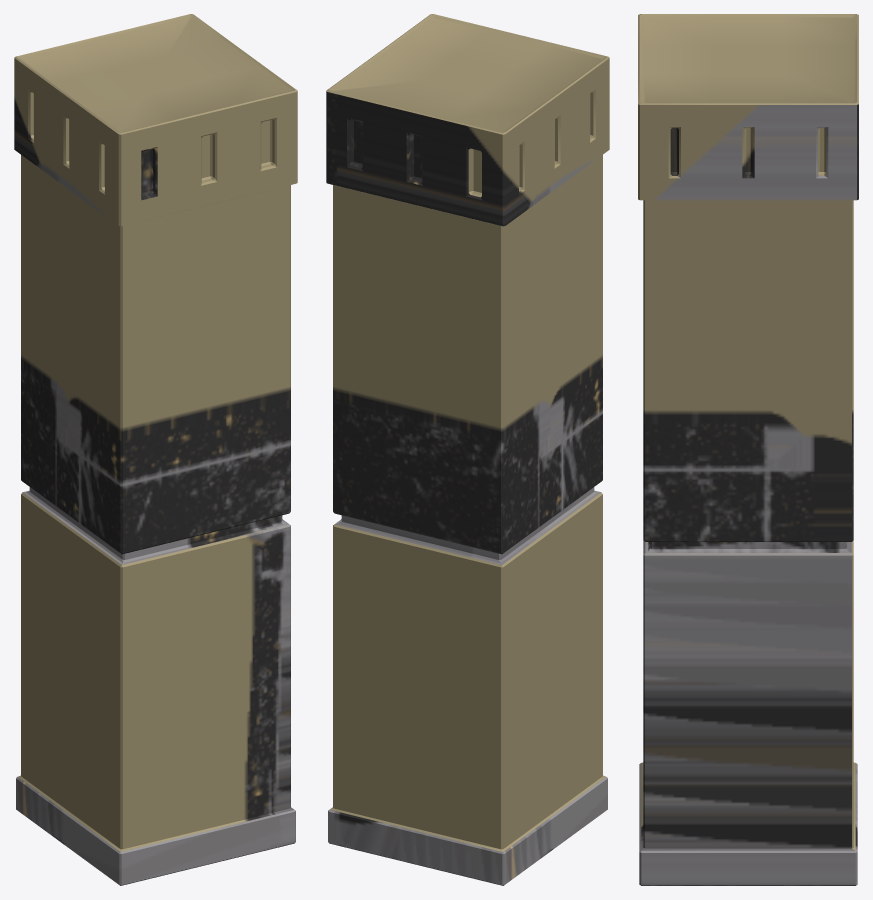
Rendered from säule.obj.
3 views of the same model, side by side, from view 1: azimuth 30°, elevation 25°; view 2: azimuth 150°, elevation 25°; view 3: azimuth 270°, elevation 25° (orthographic). The views are drawn at different scales.
Parts seen in each view (by area): view 1: tisch1.001_Plane.015; view 2: tisch1.001_Plane.015; view 3: tisch1.001_Plane.015.
Boxes of the visible parts, left/top/right/bottom form: tisch1.001_Plane.015: left=14, top=14, right=297, bottom=885; tisch1.001_Plane.015: left=326, top=14, right=609, bottom=885; tisch1.001_Plane.015: left=638, top=14, right=858, bottom=885.
Bounding box in the file's own units: 10.21 × 41.07 × 10.5.
